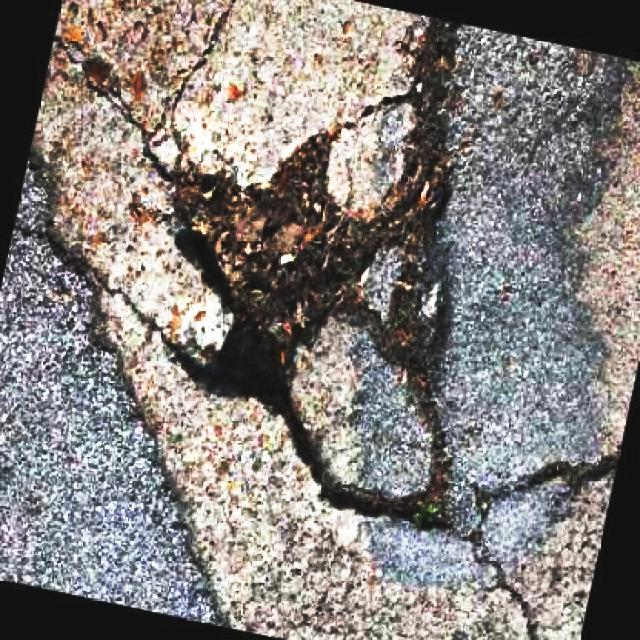pothole: (148, 90, 466, 536)
